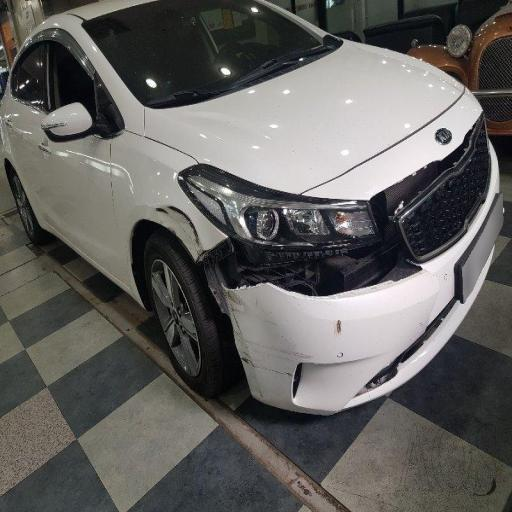broken: (184, 128, 374, 408)
dent: (128, 153, 207, 267)
